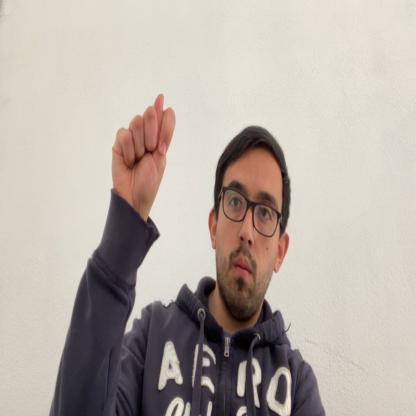T: (112, 92, 175, 208)
